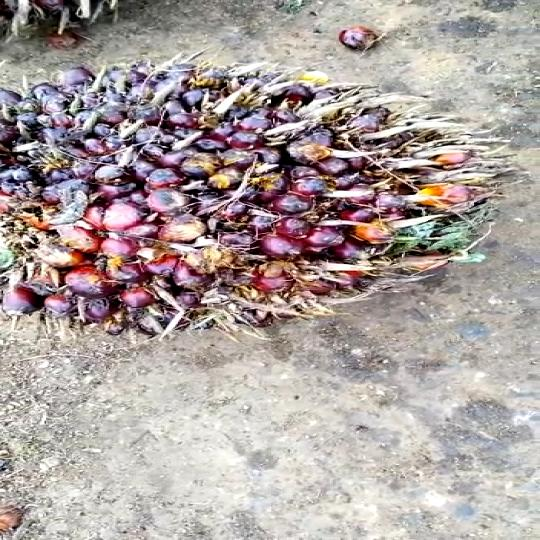masak: (0, 45, 506, 362)
